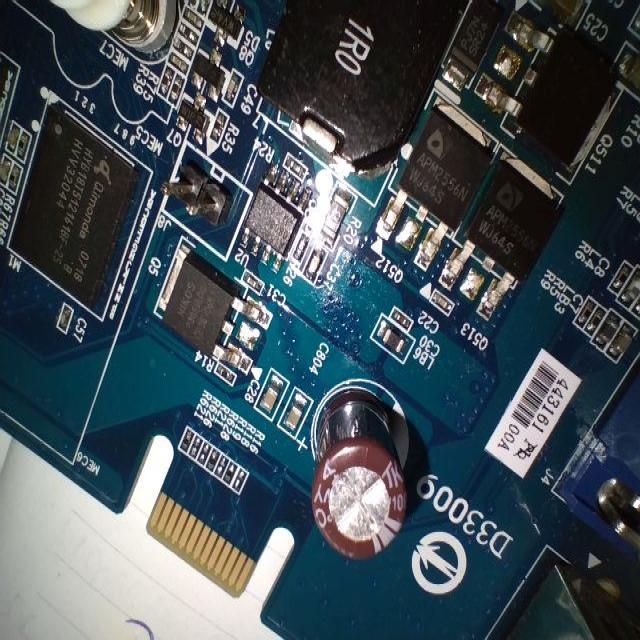capacitor: (254, 368, 289, 429), (282, 384, 316, 444), (422, 286, 464, 322), (260, 364, 286, 416)
resistor: (572, 278, 598, 332)
